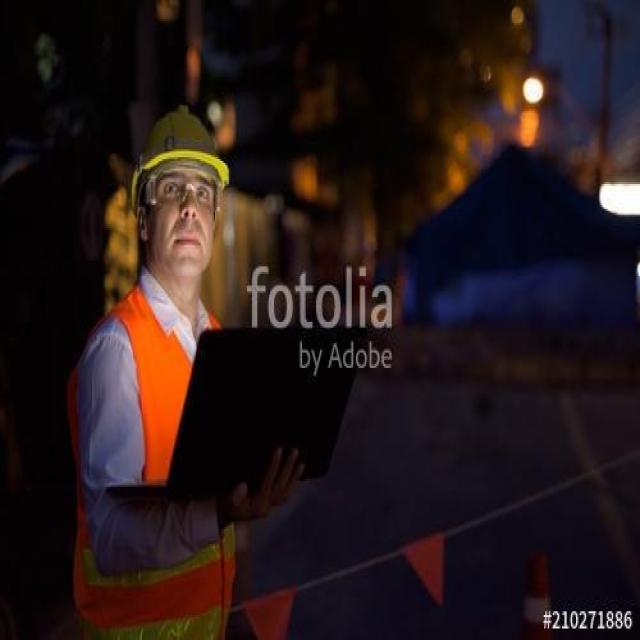helmet: (126, 100, 235, 286)
